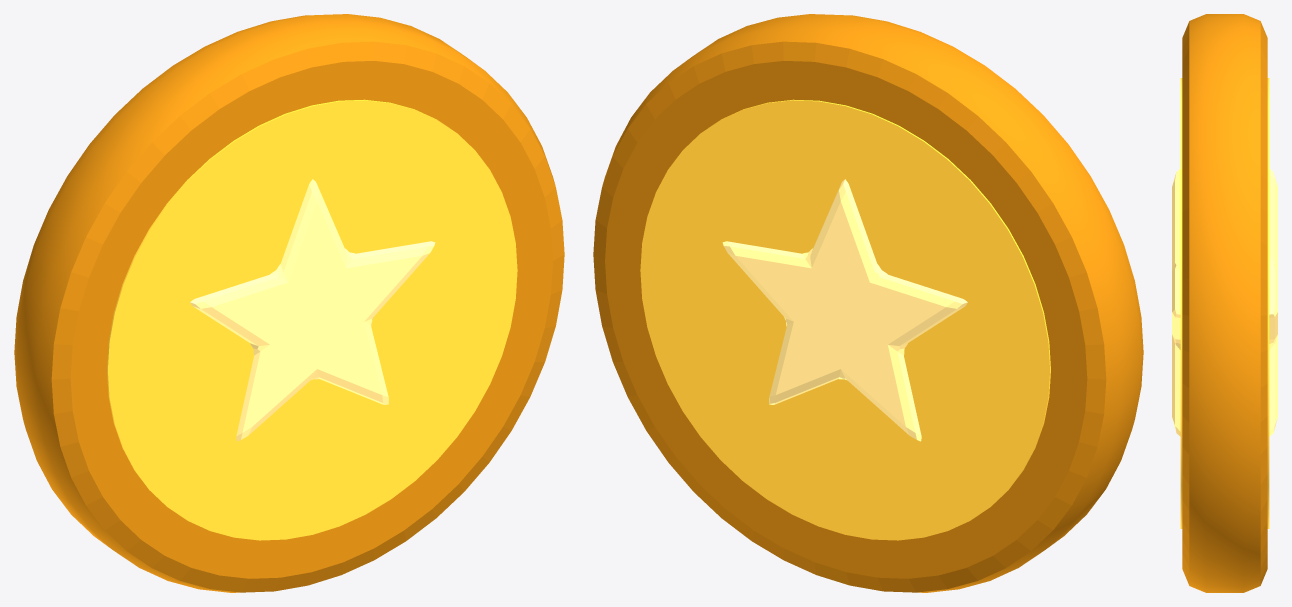
Rendered from moeda-de-ouro.glb.
The picture shows the model from 3 angles, left to right: view 1: azimuth 30°, elevation 25°; view 2: azimuth 150°, elevation 25°; view 3: azimuth 270°, elevation 25°; orthographic projection. The views are drawn at different scales.
Visible parts, largest first — view 1: moeda-de-ouro; view 2: moeda-de-ouro; view 3: moeda-de-ouro.
Part boxes in pixels (x1=…): moeda-de-ouro: x1=14, y1=14, x2=564, y2=592; moeda-de-ouro: x1=593, y1=14, x2=1143, y2=592; moeda-de-ouro: x1=1172, y1=14, x2=1277, y2=592.
Bounding box in the file's own units: 0.68 × 0.68 × 0.124.
